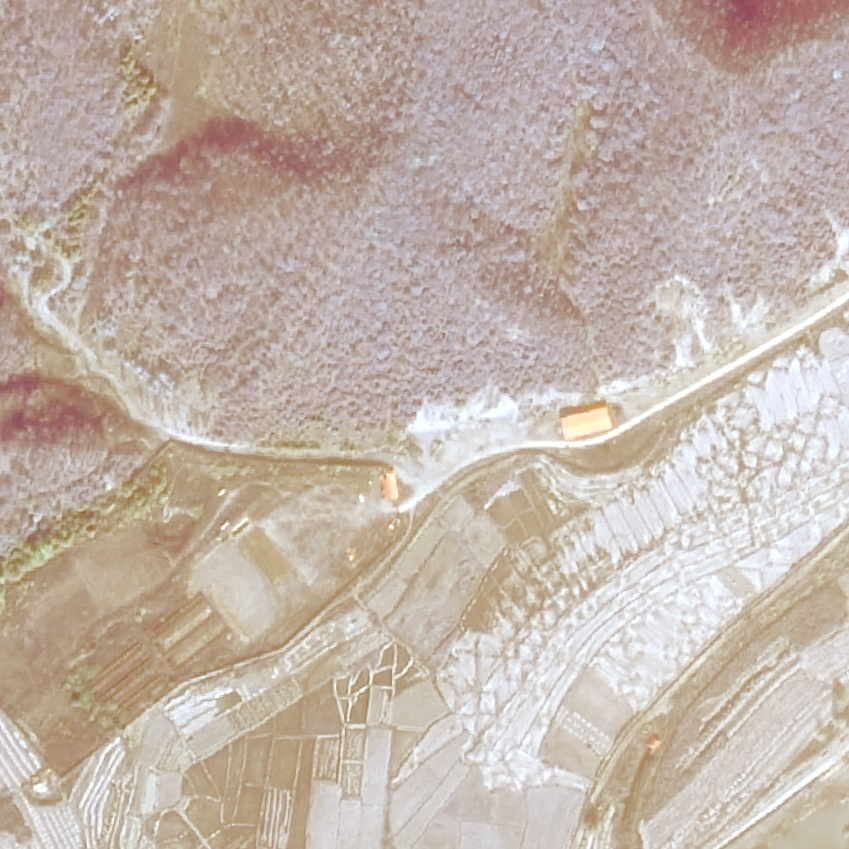slope: (400, 371, 532, 495), (645, 270, 721, 370)
